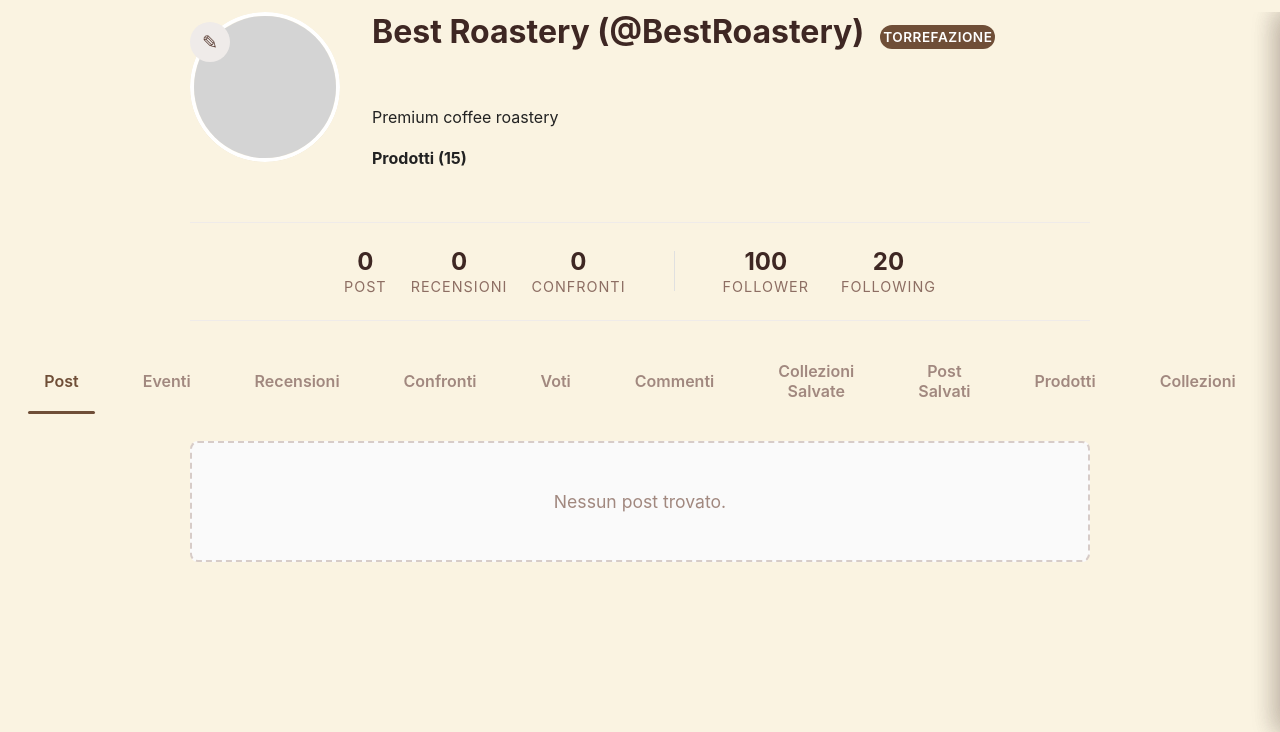
Test case: Profile Page › Collection Management (Torrefazione) › shows create collection button for own profile
Click the button "Collezioni" at (1198,380), box [1144,352,1252,408]
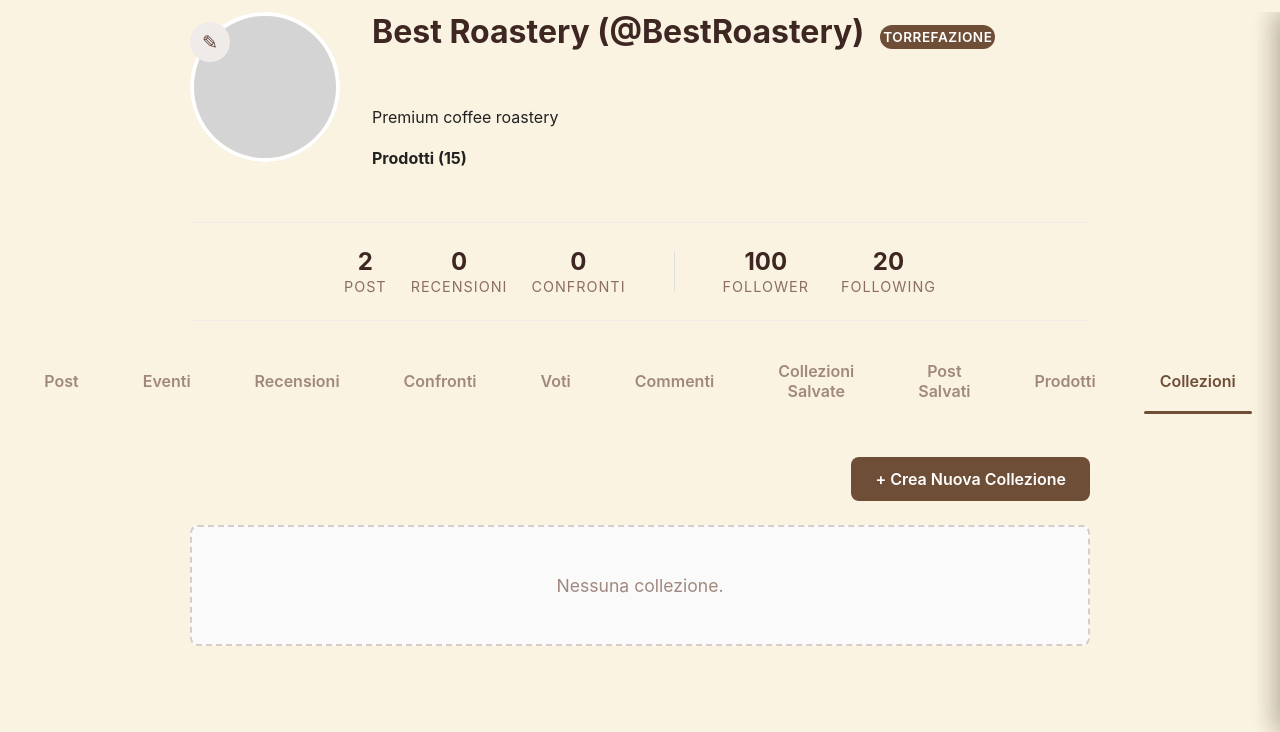
Expected: the button "+ Crea Nuova Collezione" is shown, [851,456,1090,500]
